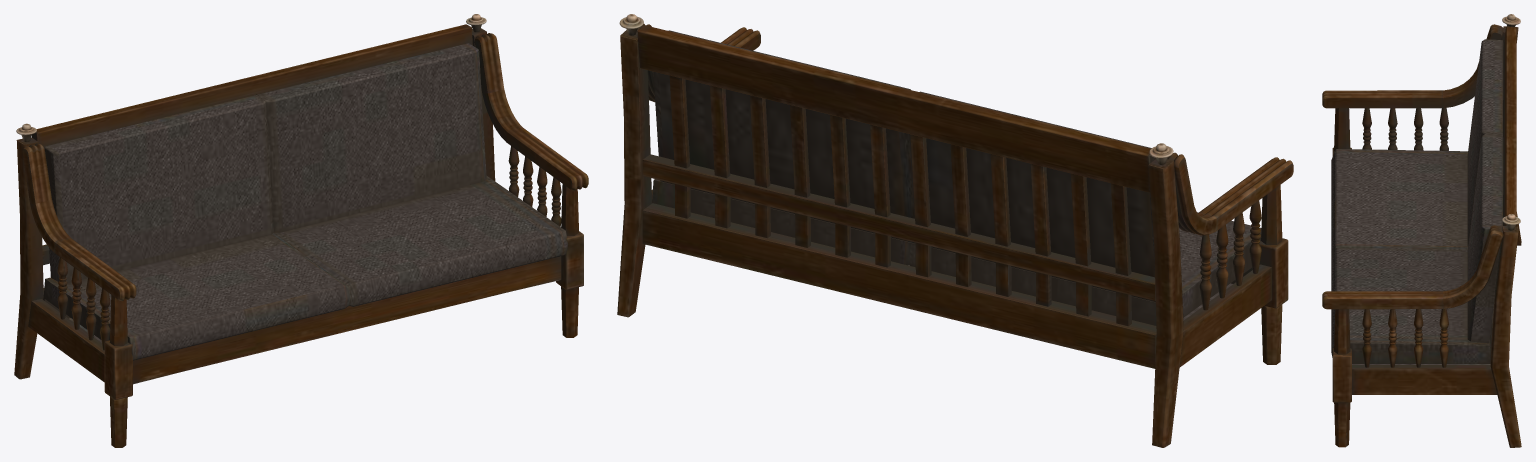
The model's file is sofa-7.glb.
3 views of the same model, side by side, from view 1: azimuth 30°, elevation 25°; view 2: azimuth 150°, elevation 25°; view 3: azimuth 270°, elevation 25° (orthographic). The views are drawn at different scales.
Visible parts, largest first — view 1: Cube_1; view 2: Cube_1; view 3: Cube_1.
Boxes of the visible parts, left/top/right/bottom form: Cube_1: left=14, top=14, right=588, bottom=447; Cube_1: left=617, top=14, right=1293, bottom=447; Cube_1: left=1322, top=14, right=1521, bottom=447.
Bounding box in the file's own units: 16.32 × 8.38 × 6.58.
1 material, 1 textured.
